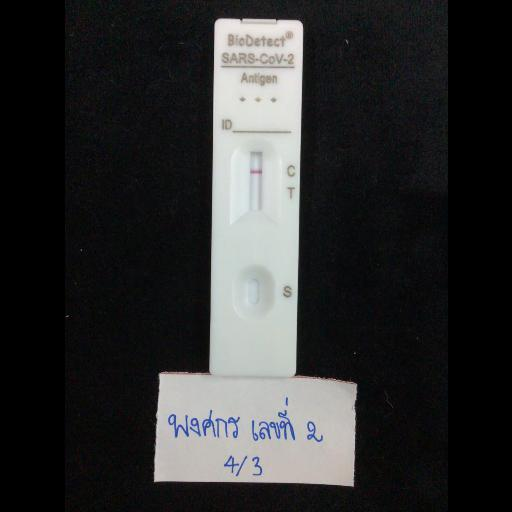Neg: (213, 15, 297, 375)
